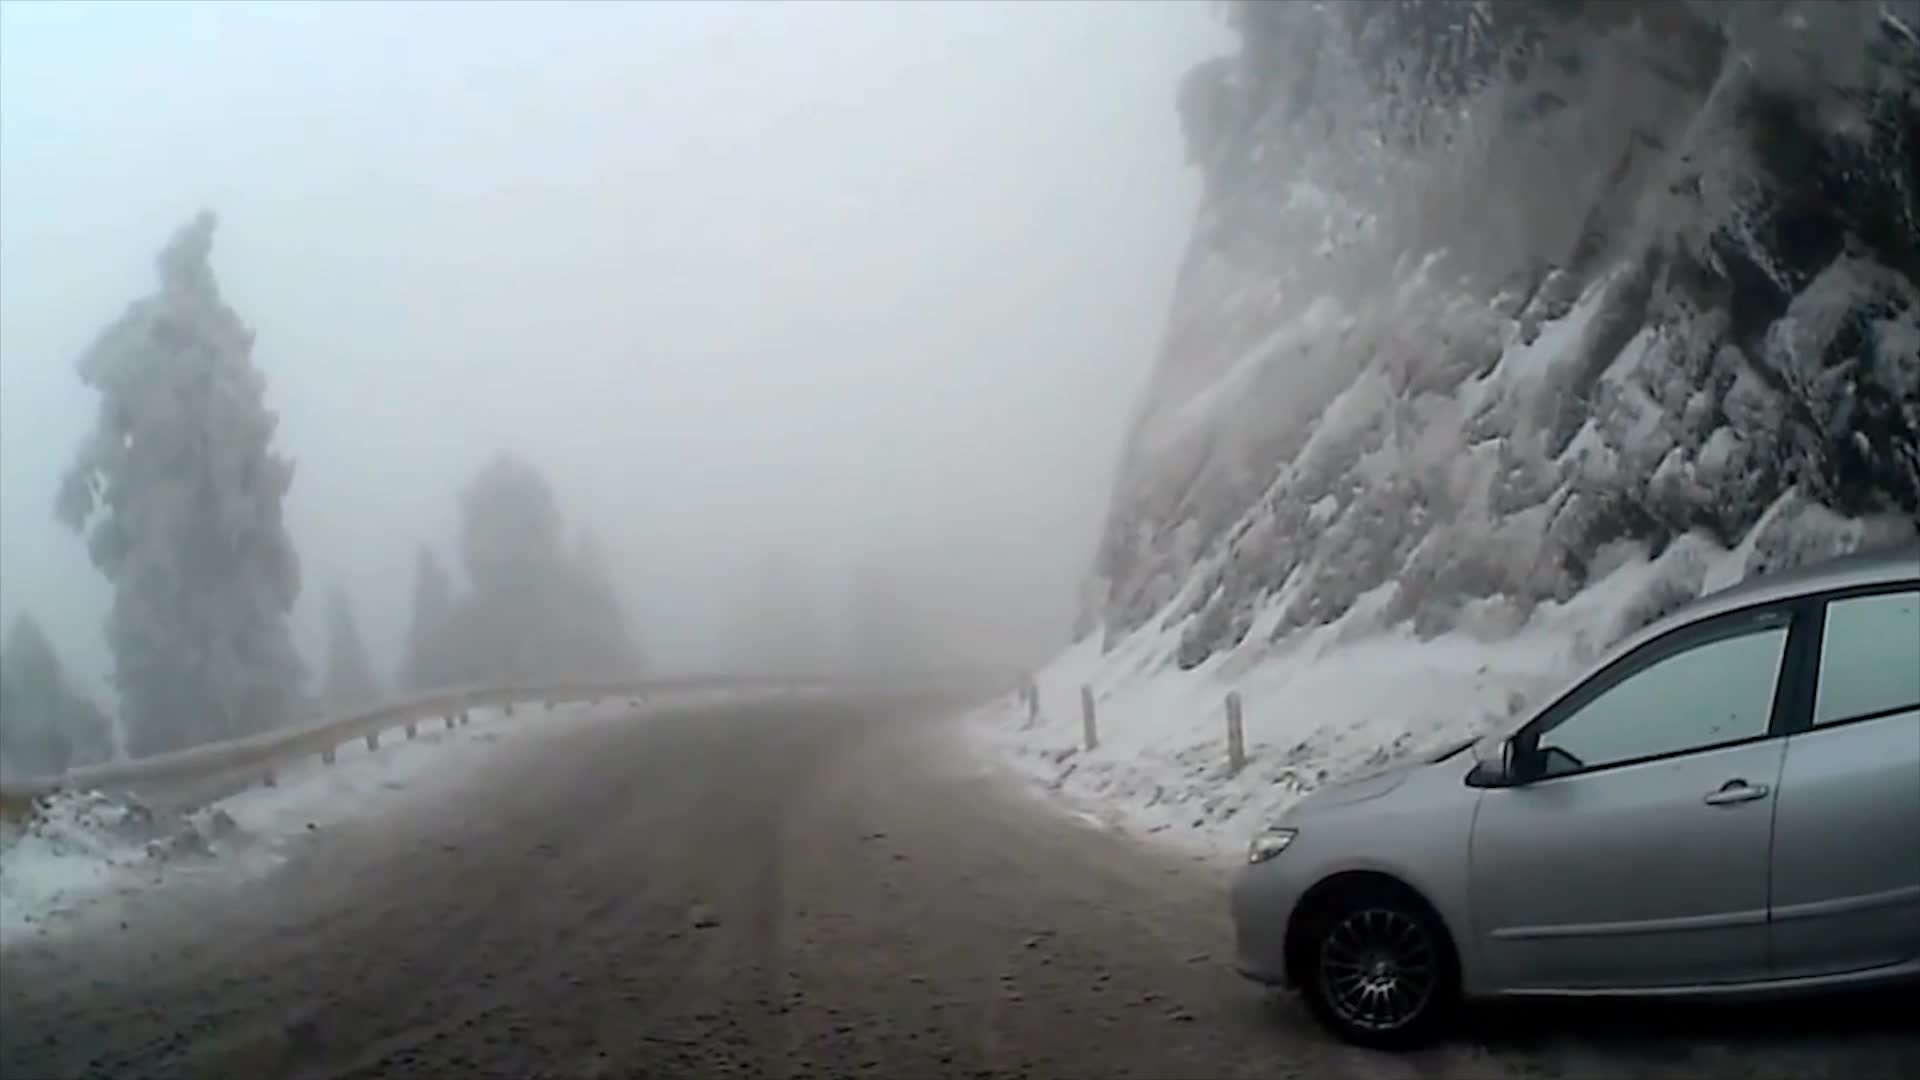vehicle: (1225, 546, 1920, 1052)
